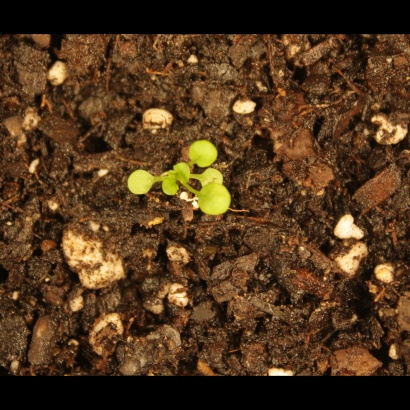leaf: (197, 184, 232, 220), (125, 169, 157, 200), (188, 140, 218, 168), (198, 166, 225, 192), (157, 177, 180, 200), (173, 163, 196, 186)
